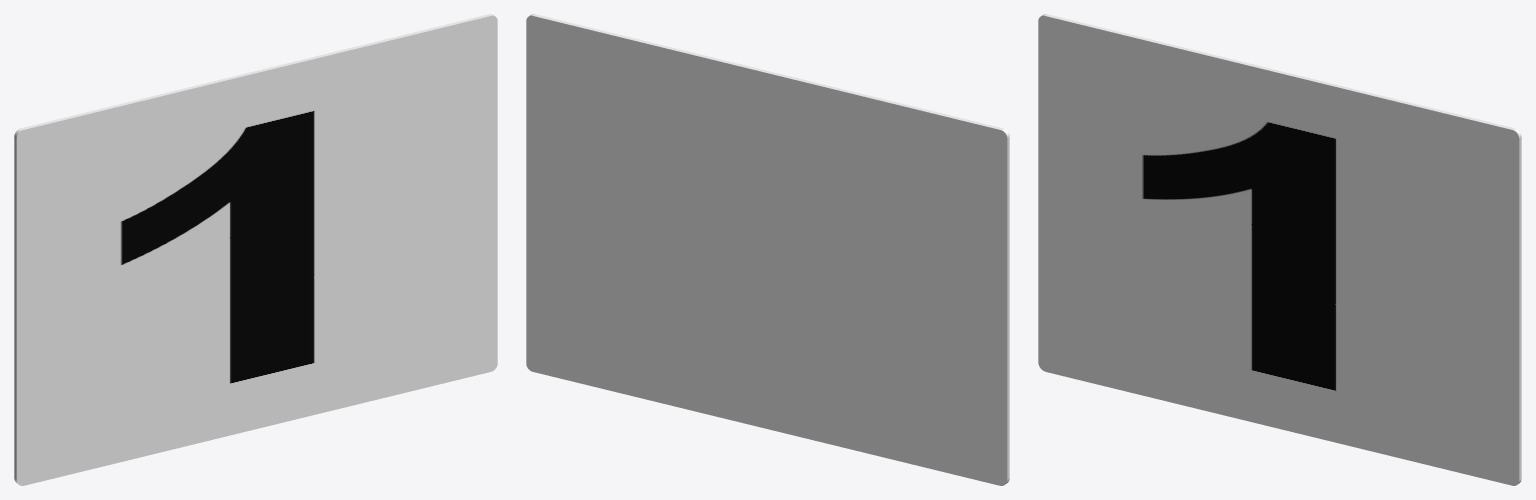
3 renders of one model, left to right at view 1: azimuth 30°, elevation 25°; view 2: azimuth 150°, elevation 25°; view 3: azimuth 330°, elevation 25°, orthographic.
Parts seen in each view (by area): view 1: Danger_sign; view 2: Danger_sign (×2); view 3: Danger_sign.
Boxes of the visible parts, bbox=[...] form: Danger_sign: bbox=[14, 14, 497, 485]; Danger_sign (×2): bbox=[526, 14, 1009, 485]; Danger_sign: bbox=[1038, 14, 1521, 485].
Bounding box in the file's own units: 11.63 × 0.1 × 8.22.
Materials: 2 (1 with a texture image).
